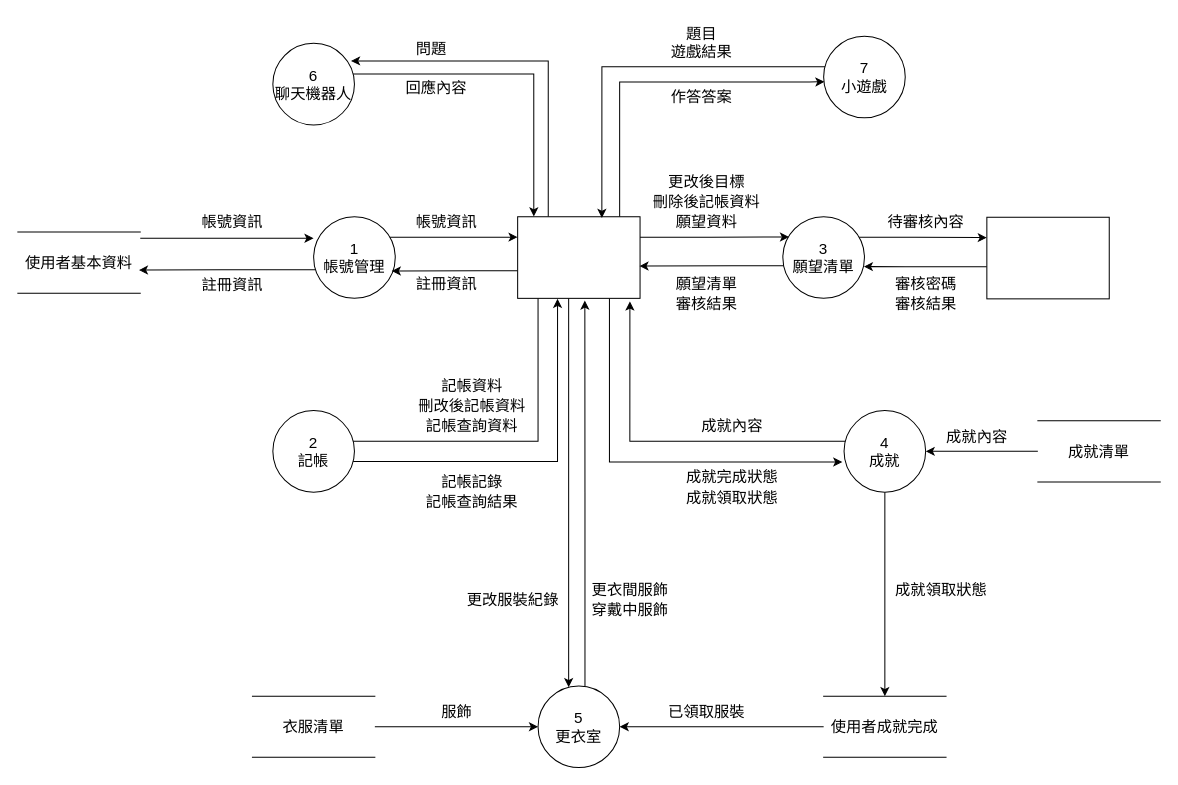
This 1178x785 diagram has some shape labels left out. Here are the shapes that lost their labels. From the top down, the centre of each, then its label:
At pixel 578 257: "小孩".
At pixel 1047 257: "家長".
